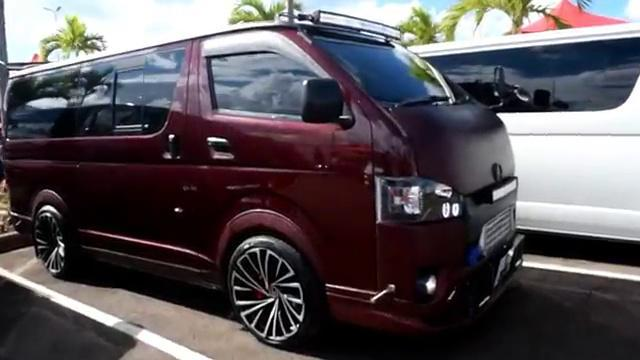Van: (7, 13, 528, 324)
